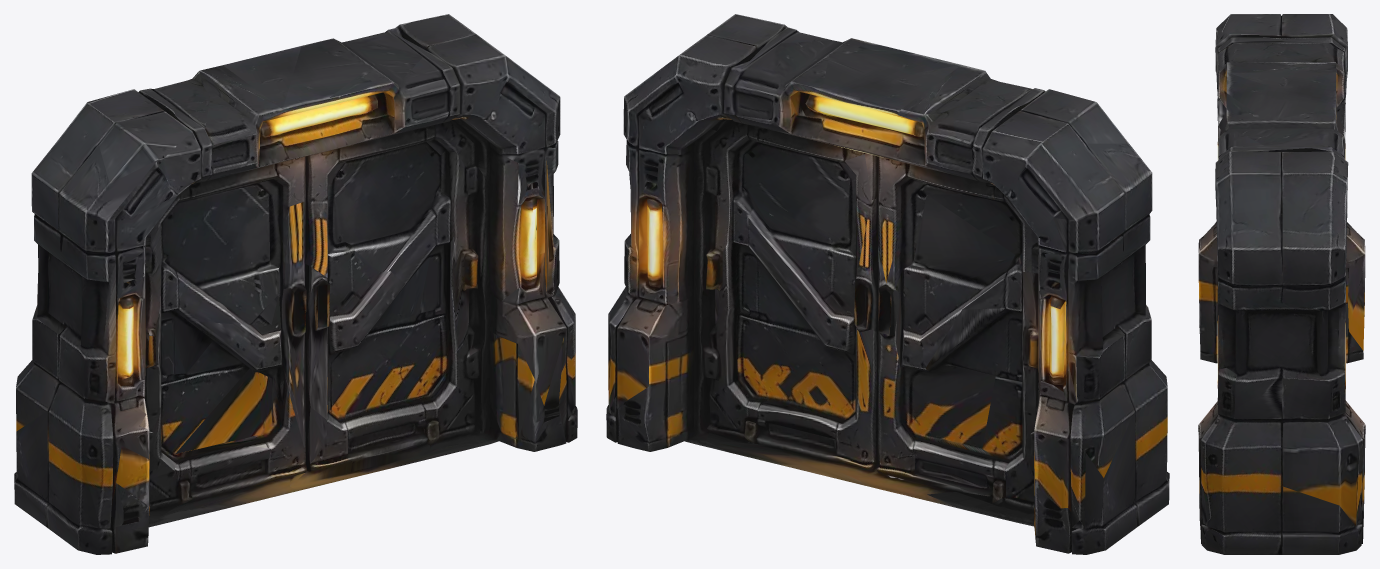
Rendered from door.glb.
The picture shows the model from 3 angles, left to right: view 1: azimuth 30°, elevation 25°; view 2: azimuth 150°, elevation 25°; view 3: azimuth 270°, elevation 25°; orthographic projection. The views are drawn at different scales.
Visible parts, largest first — view 1: model; view 2: model; view 3: model.
Part boxes in pixels (x1=…): model: x1=14, y1=14, x2=577, y2=554; model: x1=606, y1=14, x2=1169, y2=554; model: x1=1198, y1=14, x2=1365, y2=554.
Size of the model in its own units: 1.88 by 1.41 by 0.6054.
Materials: 1 (1 with a texture image).
